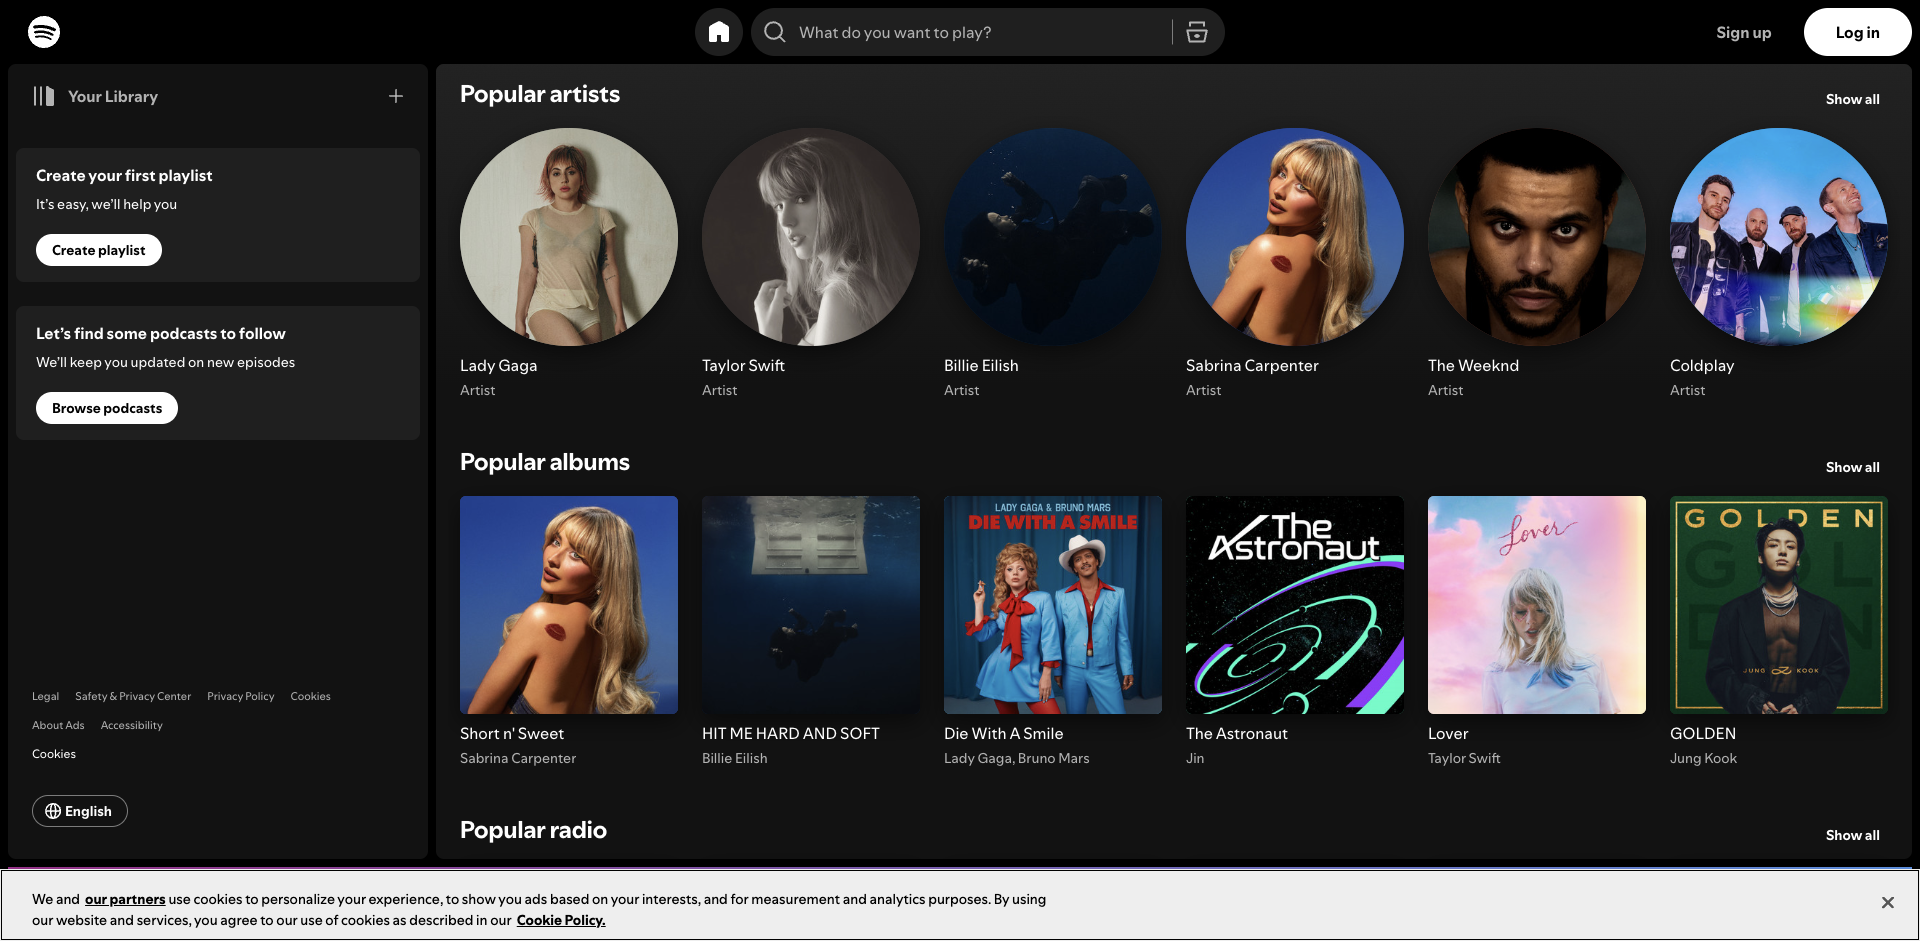button: (448, 484, 691, 780), (932, 484, 1174, 780), (1416, 484, 1658, 780), (1658, 484, 1900, 780), (448, 116, 691, 412), (932, 116, 1174, 412), (1416, 116, 1658, 412), (1658, 116, 1900, 412), (691, 484, 932, 780), (1174, 484, 1416, 780), (691, 116, 932, 412), (1174, 116, 1416, 412), (448, 852, 691, 941), (932, 852, 1174, 941), (1416, 852, 1658, 941), (1658, 852, 1900, 941), (691, 852, 932, 941), (1174, 852, 1416, 941), (1711, 879, 1888, 926), (24, 76, 167, 116), (1804, 9, 1911, 56), (1708, 9, 1804, 56), (36, 392, 179, 424), (36, 234, 162, 266), (32, 795, 129, 827), (1589, 298, 1638, 346), (1589, 667, 1638, 714), (696, 9, 743, 56), (622, 298, 670, 346), (864, 298, 912, 346), (1106, 298, 1153, 346), (1348, 298, 1396, 346), (1832, 298, 1880, 346), (622, 667, 670, 714), (864, 667, 912, 714), (1106, 667, 1153, 714), (1348, 667, 1396, 714), (1832, 667, 1880, 714), (1866, 881, 1910, 925), (380, 80, 411, 111), (856, 904, 888, 936), (896, 904, 928, 936), (944, 904, 976, 936), (992, 904, 1024, 936), (1032, 904, 1064, 936), (1747, 916, 1779, 941), (1779, 916, 1811, 941), (1185, 21, 1209, 44)
input: (751, 9, 1224, 56), (433, 529, 562, 545)
label: (431, 461, 432, 462), (1810, 926, 1811, 928)
link: (460, 447, 631, 475), (460, 78, 620, 108), (460, 815, 607, 844), (702, 722, 880, 744), (1187, 354, 1319, 376), (944, 722, 1064, 744), (460, 747, 577, 768), (460, 722, 564, 744), (1187, 722, 1288, 744), (1826, 69, 1880, 109), (1826, 805, 1880, 845), (1826, 437, 1880, 477), (1428, 354, 1520, 376), (75, 689, 191, 705), (702, 354, 785, 376), (517, 910, 606, 930), (460, 354, 538, 376), (944, 354, 1019, 376), (84, 890, 165, 909), (1428, 747, 1501, 768), (1018, 747, 1090, 768), (1670, 722, 1736, 744), (1670, 354, 1735, 376), (944, 747, 1011, 768), (1670, 747, 1738, 768), (702, 747, 768, 768), (32, 741, 92, 763), (207, 689, 274, 705), (28, 16, 60, 48), (100, 718, 163, 733), (1428, 722, 1468, 744), (32, 718, 84, 733), (290, 689, 331, 705), (32, 689, 59, 705), (1187, 747, 1205, 768)
